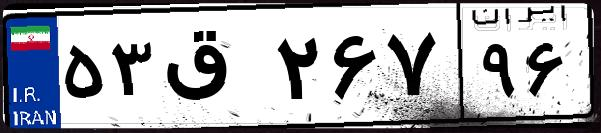2: (270, 28, 330, 110)
3: (110, 28, 158, 98)
5: (57, 26, 110, 100)
6: (330, 28, 385, 110), (525, 38, 570, 115)
7: (385, 28, 445, 110)
9: (475, 38, 525, 113)
ق: (158, 20, 270, 120)
